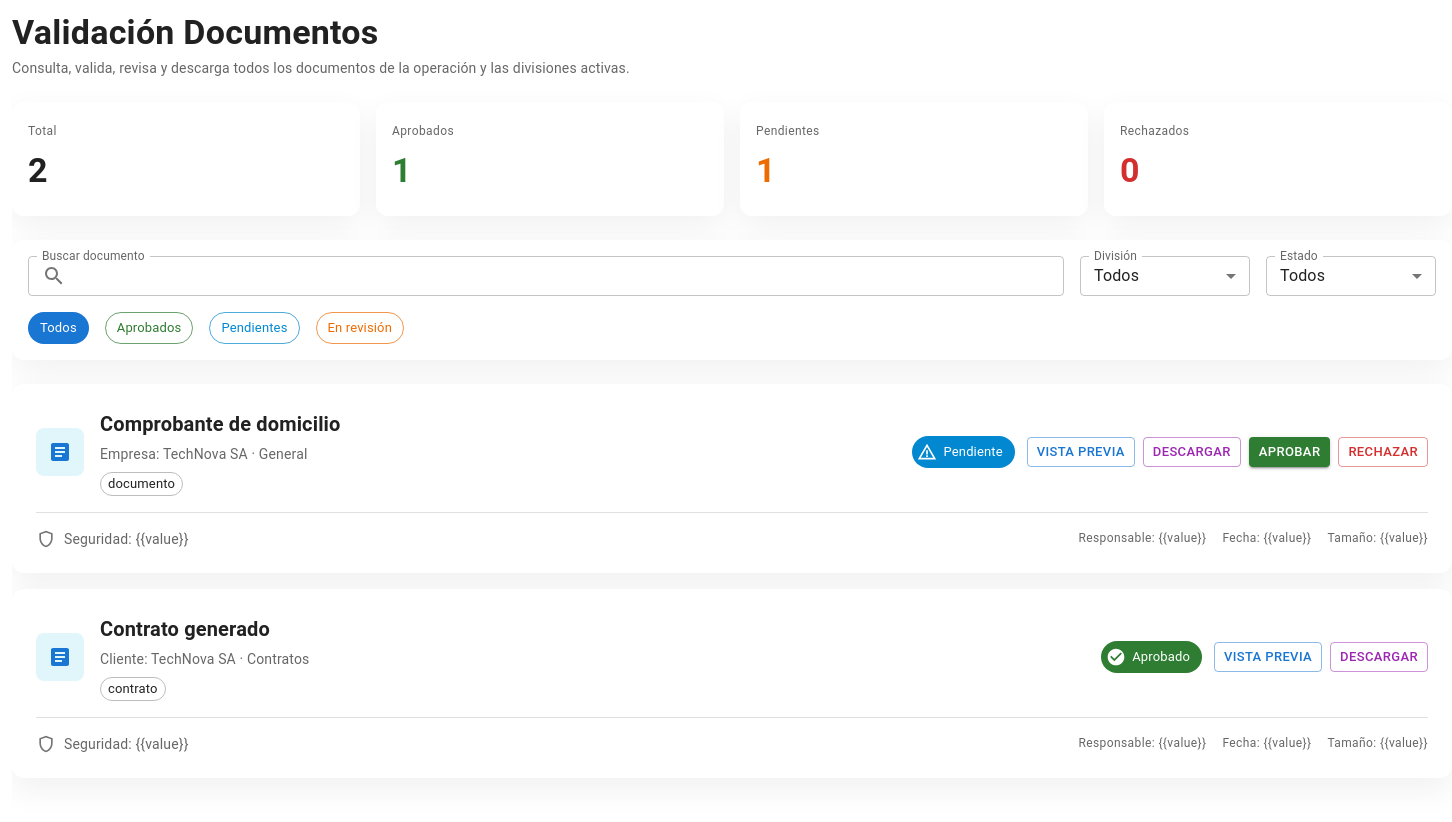
Test case: allows approving only documents that require validation
Expected: the heading "Comprobante de domicilio" is shown, [100,408,340,440]
Click the button "Aprobar": (1290, 452) [1249,437,1330,467]
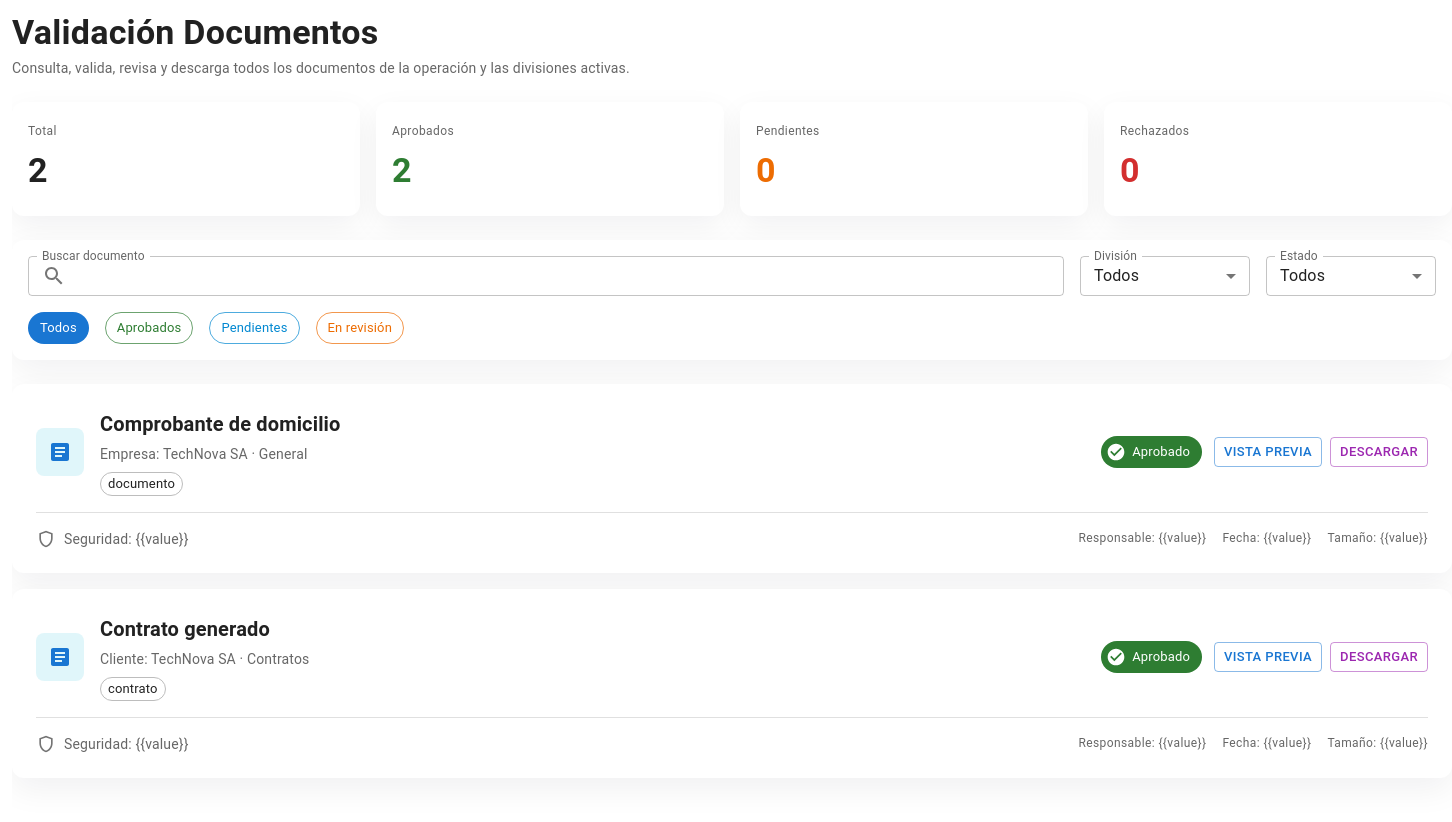
Expected: the text "Aprobado" in the row of "General" is shown, [1132,444,1190,459]
